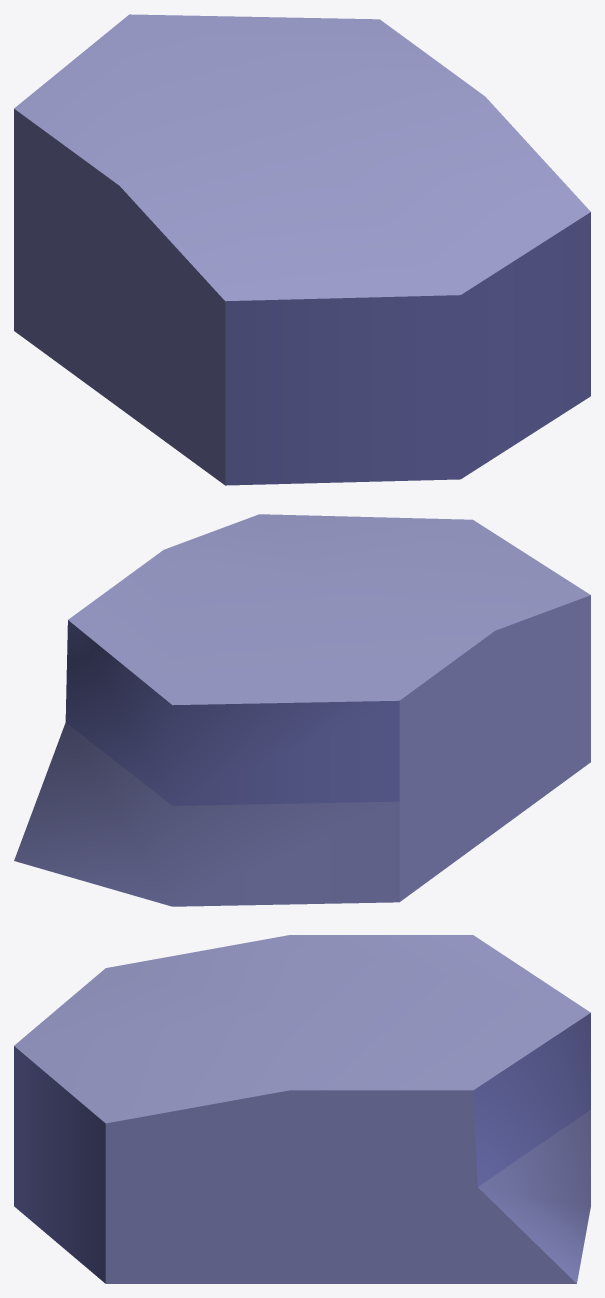
Rendered from Rock3.fbx.
The picture shows the model from 3 angles, top to bottom: view 1: azimuth 30°, elevation 25°; view 2: azimuth 150°, elevation 25°; view 3: azimuth 270°, elevation 25°; orthographic projection. The views are drawn at different scales.
Visible parts, largest first — view 1: Rock3; view 2: Rock3; view 3: Rock3.
Boxes of the visible parts, box(x1,y1,x2,y2) form: Rock3: box(14, 14, 590, 485); Rock3: box(14, 514, 590, 906); Rock3: box(14, 935, 590, 1283).
Size of the model in its own units: 1.85 by 1.07 by 2.9.
